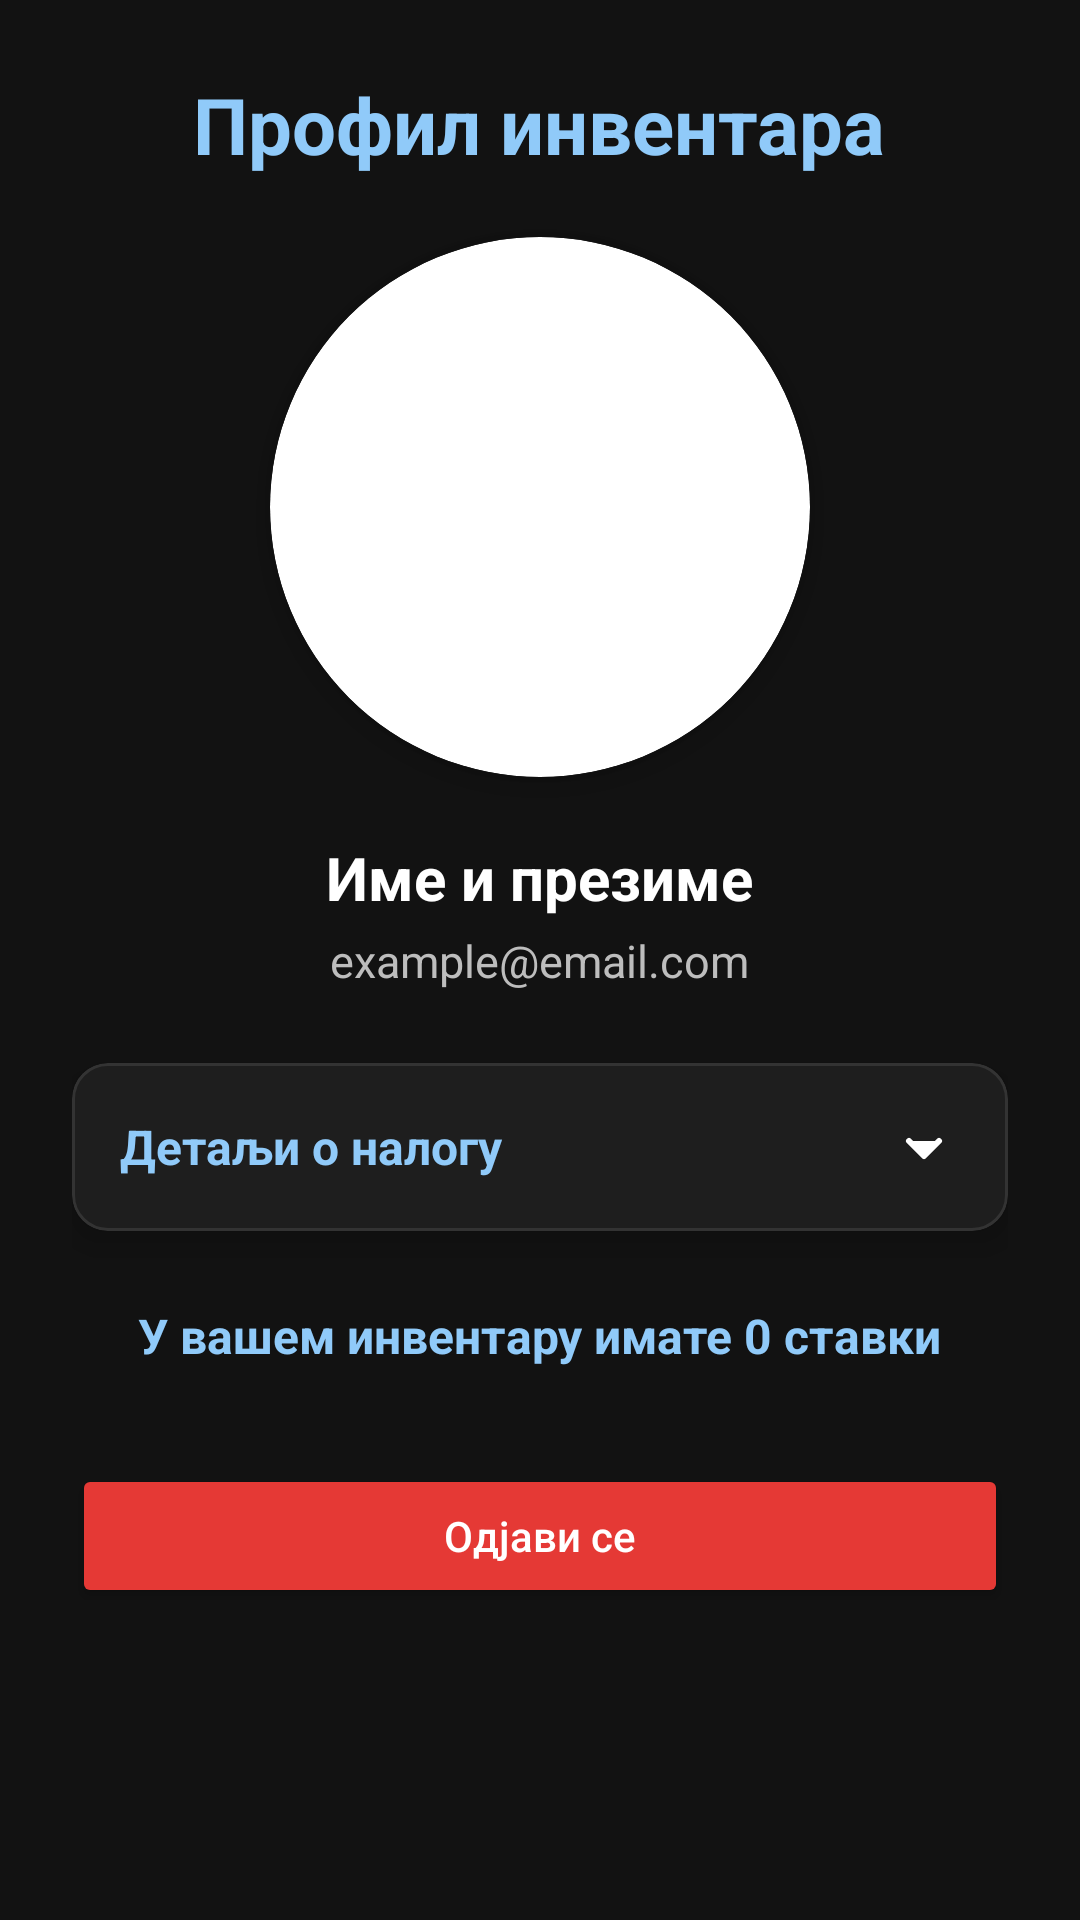

Screen size 1080x1920. Icon name, then its box in pixels as bbox=(x1, y1, x2, y2):
arrow down: bbox=(906, 1138, 942, 1159)
